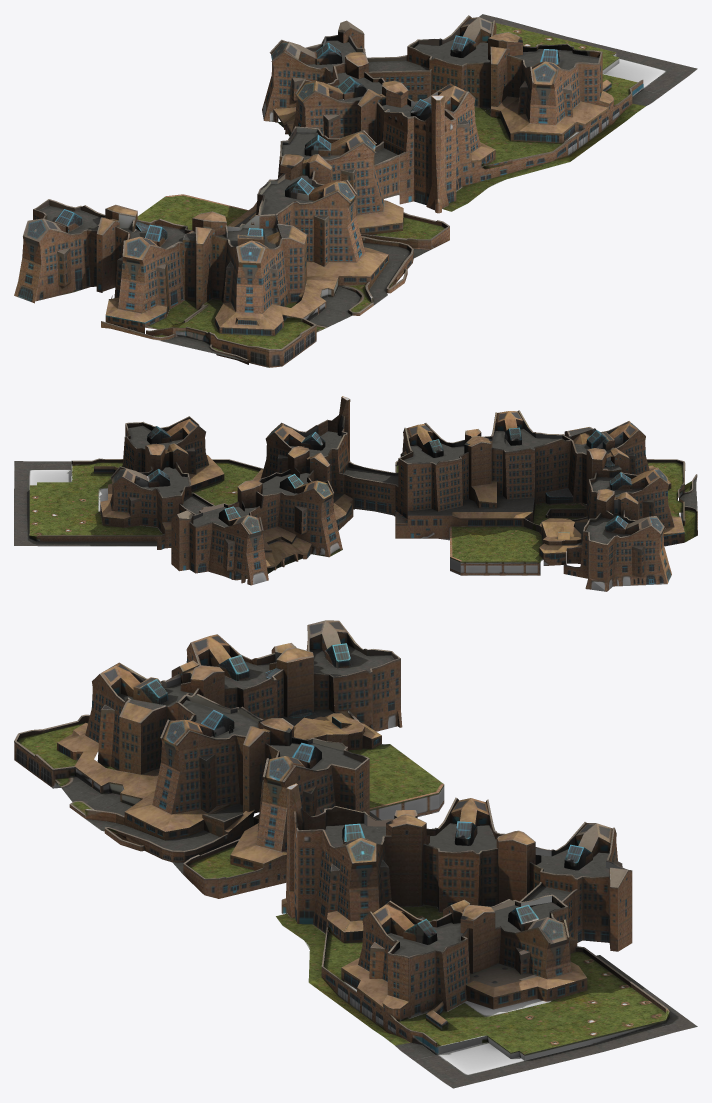
The model's file is Zandkasteel_GeoLocated.fbx.
The picture shows the model from 3 angles, top to bottom: view 1: azimuth 30°, elevation 25°; view 2: azimuth 150°, elevation 25°; view 3: azimuth 270°, elevation 25°; orthographic projection. The views are drawn at different scales.
Visible parts, largest first — view 1: Zandkasteel; view 2: Zandkasteel; view 3: Zandkasteel.
Part boxes in pixels (x1,y1,x2,y2): Zandkasteel: [14, 14, 697, 367]; Zandkasteel: [14, 396, 697, 591]; Zandkasteel: [14, 620, 697, 1088].
Size of the model in its own units: 30688 by 4603 by 21710.
Materials: 1 (1 with a texture image).
